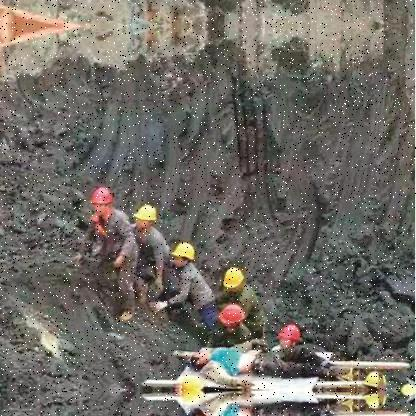helmet: (216, 302, 248, 331), (91, 184, 115, 217), (277, 322, 304, 351), (136, 202, 160, 233), (173, 240, 198, 269), (222, 262, 245, 293)
